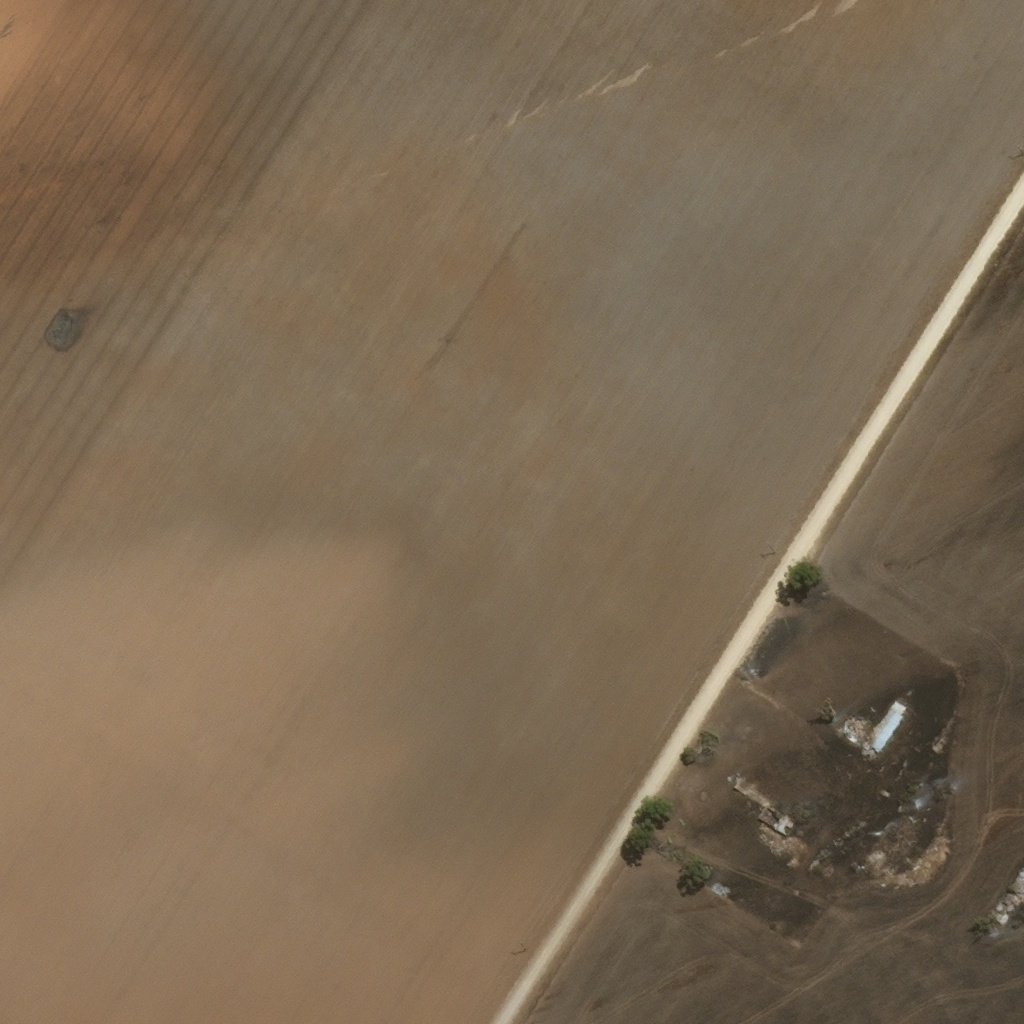2 major-damage: (868, 709, 902, 751), (889, 699, 905, 714)
3 destroyed: (755, 804, 794, 838), (836, 719, 861, 743), (855, 716, 867, 727)
